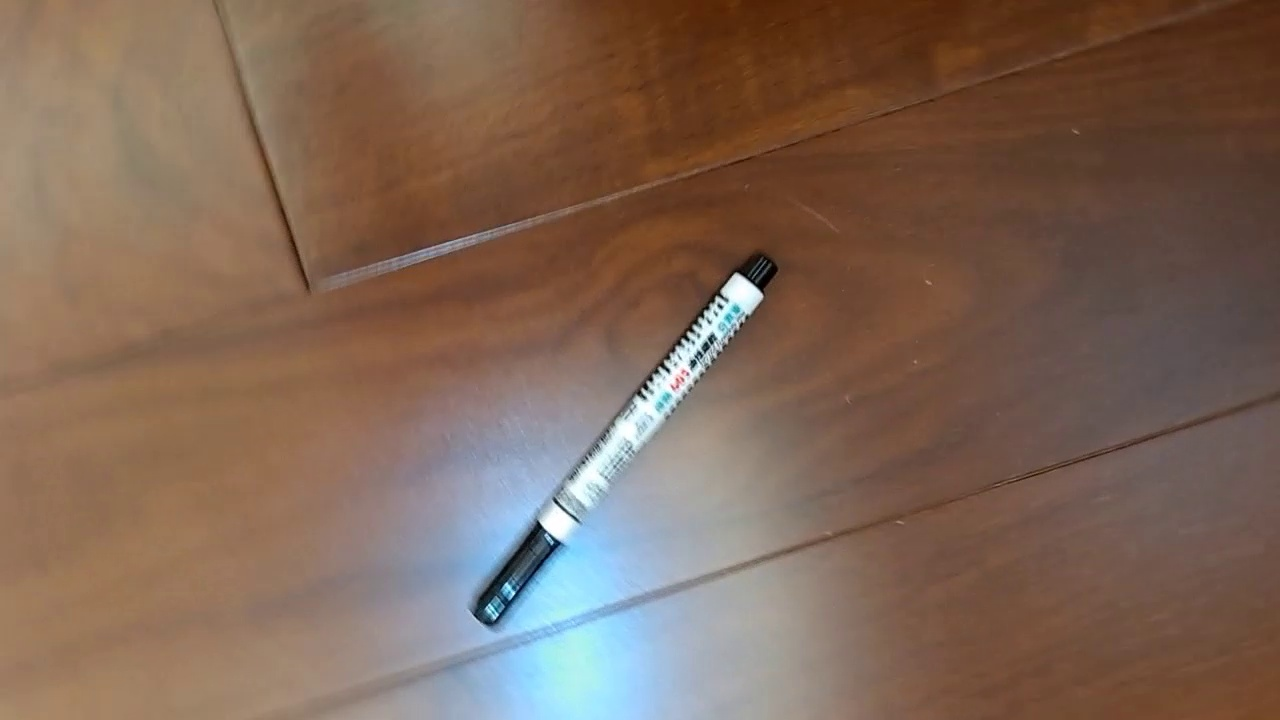pen: (468, 249, 779, 633)
